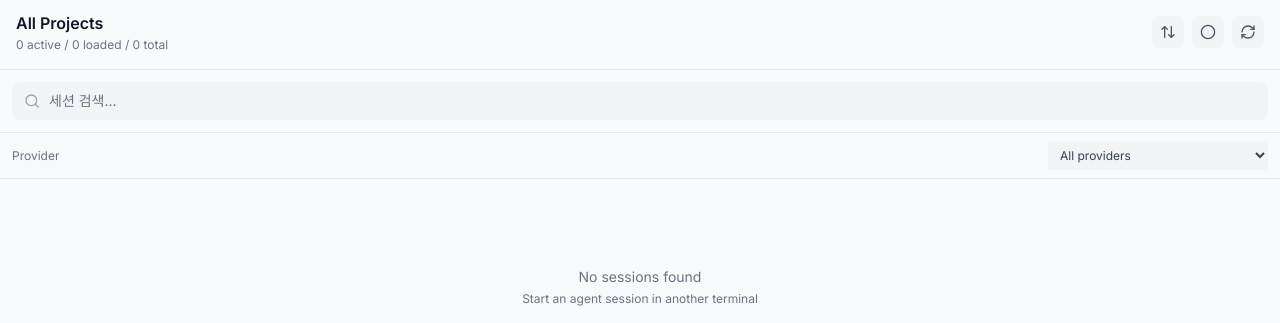
Test case: SessionList › sort dropdown › opens sort menu when sort button is clicked
Click the button titled "정렬:": {"x": 1168, "y": 32} [1152, 16, 1184, 48]
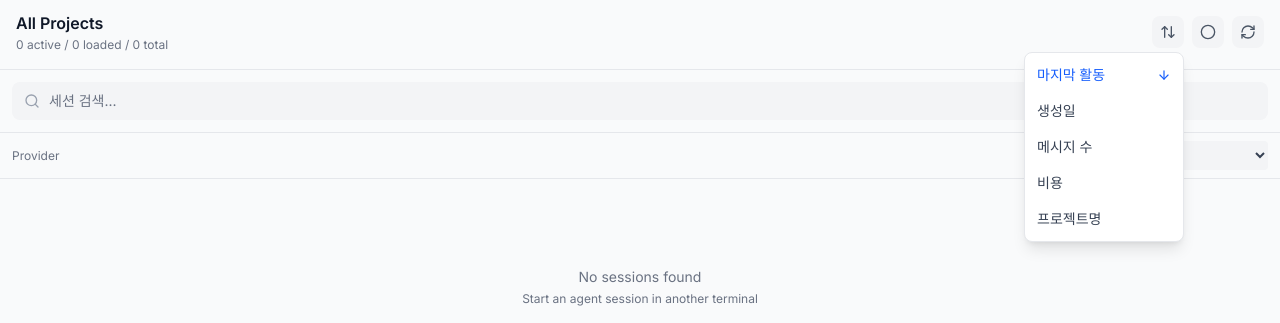
Expected: the text "마지막 활동" is shown, [1037, 65, 1105, 85]
Expected: the text "생성일" is shown, [1037, 101, 1076, 121]
Expected: the text "메시지 수" is shown, [1037, 137, 1092, 157]
